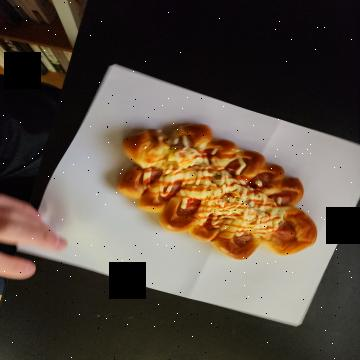pizza_bread: (122, 53, 258, 255)
